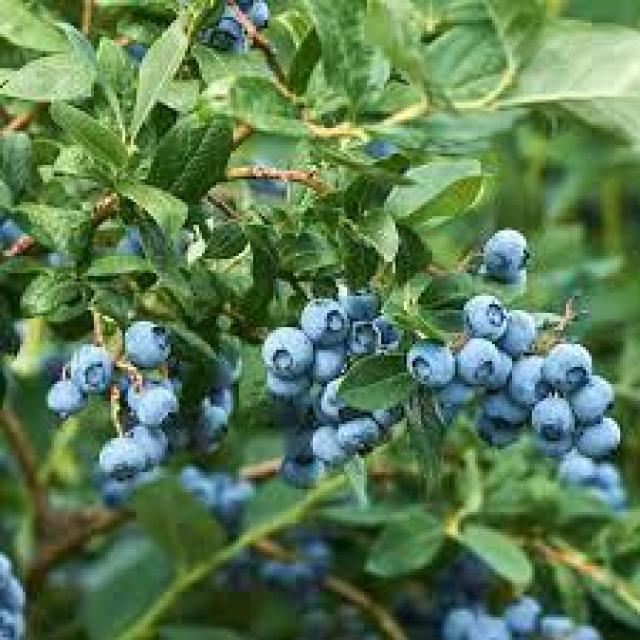BlueBerry - v1: (472, 222, 538, 287), (540, 336, 592, 401), (256, 322, 316, 376), (507, 344, 558, 407), (563, 370, 617, 429), (461, 290, 515, 344), (296, 299, 353, 350), (404, 338, 461, 389), (574, 415, 628, 464), (94, 432, 148, 481), (495, 310, 543, 364), (120, 318, 170, 369), (68, 344, 117, 396), (125, 378, 174, 429), (475, 384, 529, 430), (256, 555, 313, 597), (472, 418, 529, 458), (327, 412, 376, 458), (40, 375, 88, 421), (532, 395, 577, 444), (313, 376, 355, 426), (307, 424, 353, 469), (128, 424, 168, 475), (347, 313, 387, 361), (262, 367, 313, 404), (304, 341, 347, 384), (455, 338, 495, 384), (213, 484, 256, 526), (205, 17, 250, 57), (441, 603, 489, 640), (501, 595, 543, 637), (338, 284, 384, 322), (0, 549, 28, 611), (111, 225, 151, 267), (3, 208, 31, 262), (560, 452, 600, 487), (483, 344, 515, 387), (188, 469, 225, 506), (96, 478, 136, 512), (194, 407, 228, 441), (0, 603, 31, 640), (247, 0, 275, 31)
